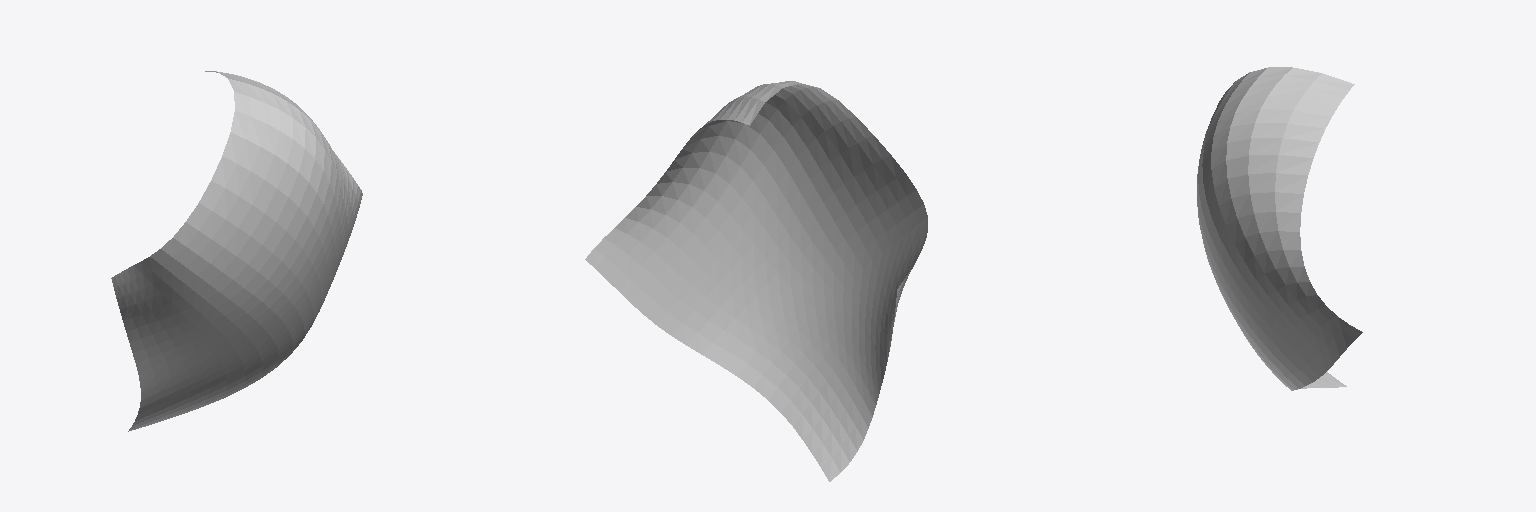
File: Test_5_25_start.obj
3 renders of one model, left to right at view 1: azimuth 30°, elevation 25°; view 2: azimuth 150°, elevation 25°; view 3: azimuth 270°, elevation 25°, orthographic.
Parts seen in each view (by area): view 1: [local-path]/hanan/hananLab/QS_project/data/Remeshing/Test_5_25/; view 2: [local-path]/hanan/hananLab/QS_project/data/Remeshing/Test_5_25/; view 3: [local-path]/hanan/hananLab/QS_project/data/Remeshing/Test_5_25/.
Part boxes in pixels (x1,y1,x2,y2): [local-path]/hanan/hananLab/QS_project/data/Remeshing/Test_5_25/: (111, 71, 362, 431); [local-path]/hanan/hananLab/QS_project/data/Remeshing/Test_5_25/: (585, 81, 927, 481); [local-path]/hanan/hananLab/QS_project/data/Remeshing/Test_5_25/: (1197, 67, 1362, 390).
Size of the model in its own units: 1.46 by 1.75 by 0.7431.